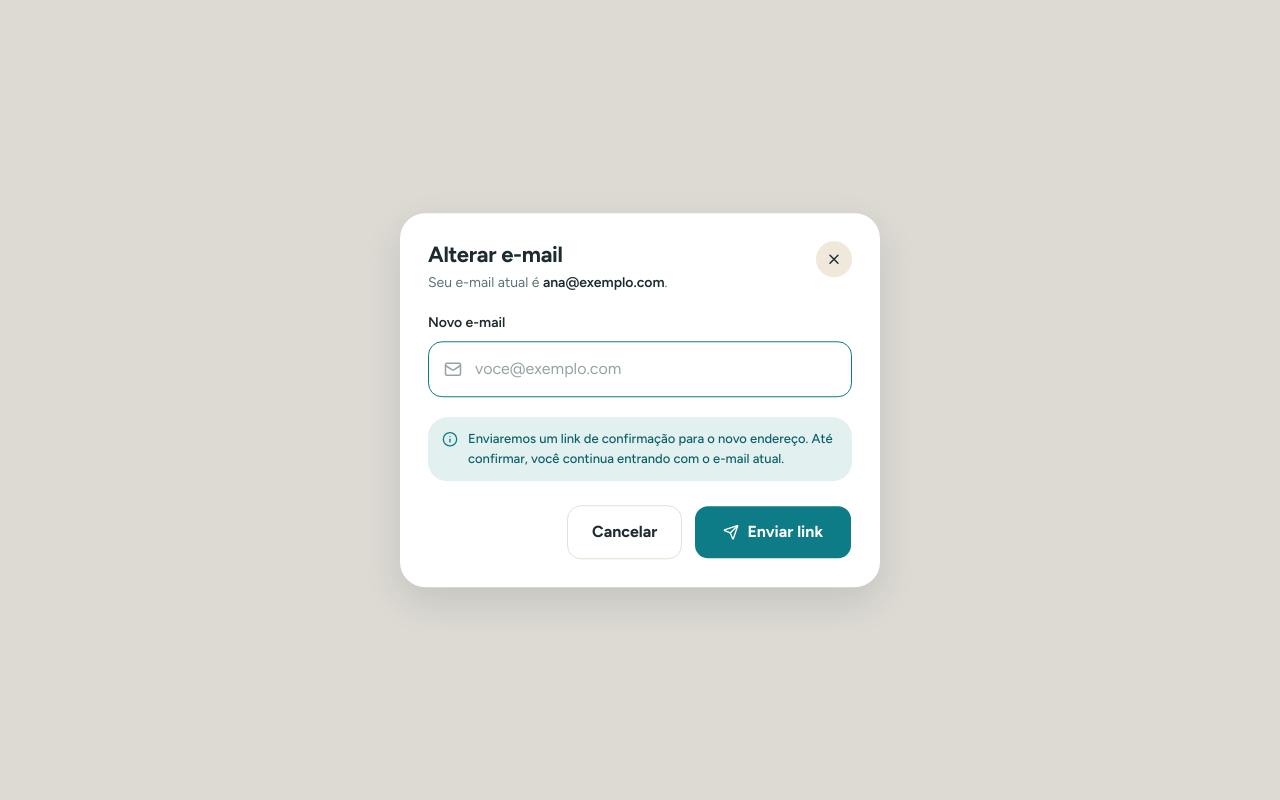
it: ChangeEmailDialog › validates ANA@exemplo.com
Type "ANA@exemplo.com" into the field labelled "Novo e-mail".
click(640, 369); type("ANA@exemplo.com")  # box 428,341 -> 852,397
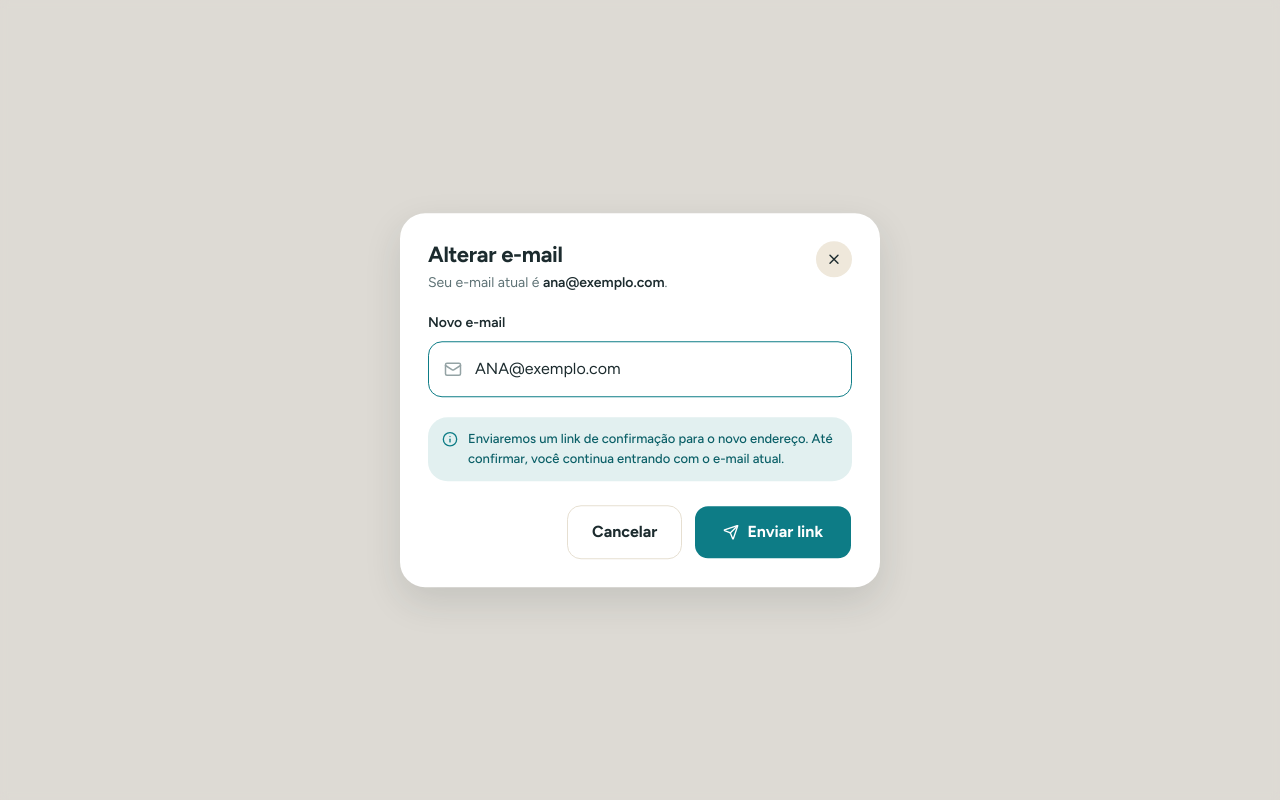
Click the button "Enviar link".
click(773, 532)  # box 694,505 -> 852,559
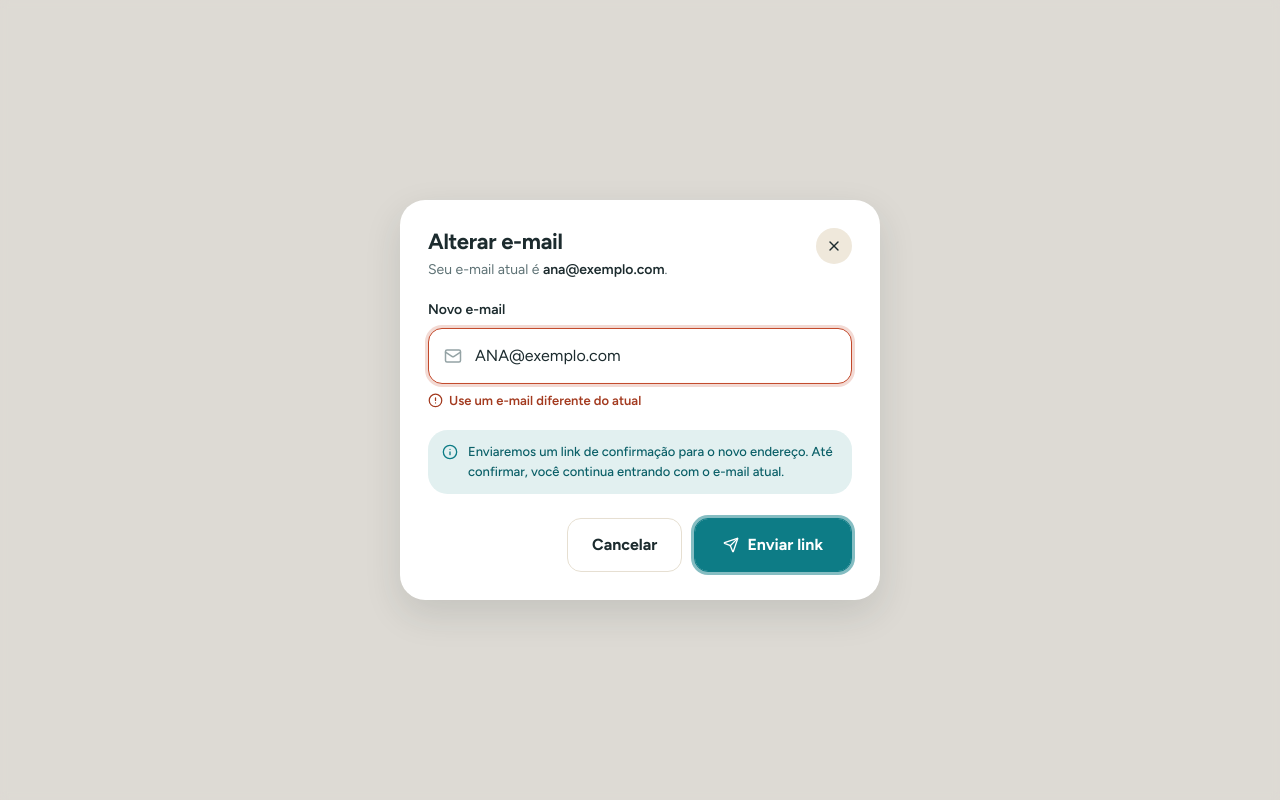
Check: the text "Use um e-mail diferente do atual" is shown, box 428,392 -> 641,408
